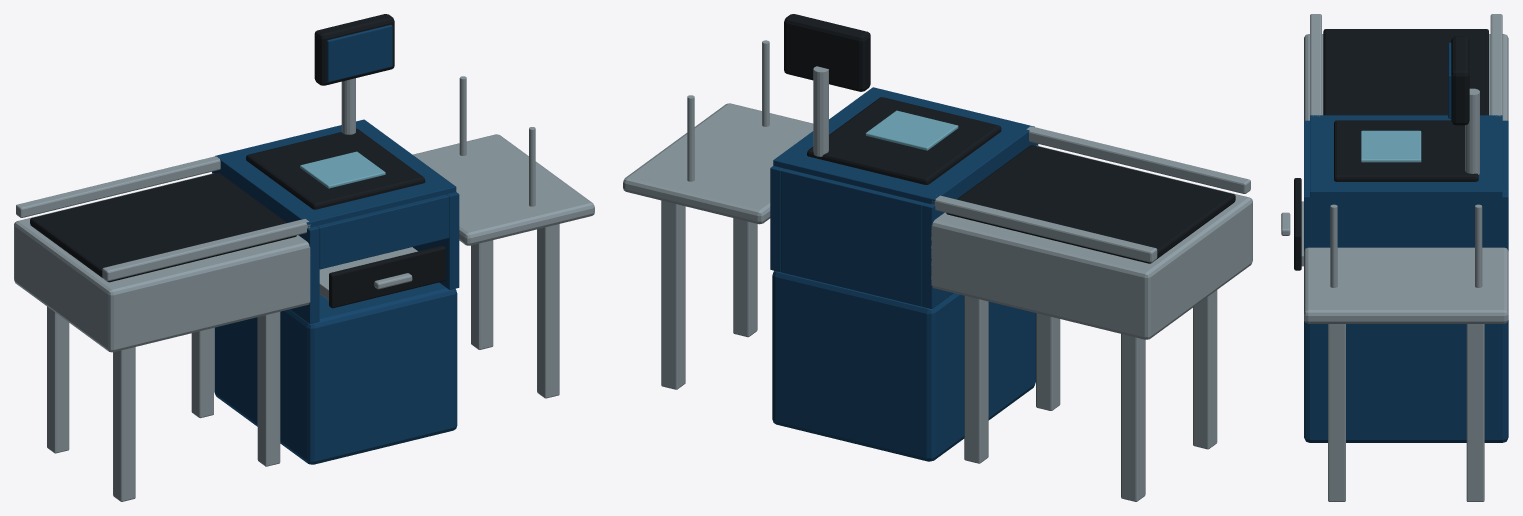
The picture shows the model from 3 angles, left to right: view 1: azimuth 30°, elevation 25°; view 2: azimuth 150°, elevation 25°; view 3: azimuth 270°, elevation 25°; orthographic projection. The views are drawn at different scales.
Parts seen in each view (by area): view 1: BODY_Lower, CONVEYOR_Base, CONVEYOR_Belt, BAGGING_Surface, BODY_Top, SCANNER_Plate, BODY_Fascia, DRAWER_Front, LEG.004, LEG.002, LEG, LEG.001 (+12 smaller); view 2: BODY_Lower, CONVEYOR_Base, CONVEYOR_Belt, BODY_Back, BAGGING_Surface, BODY_Top, SCANNER_Plate, POS_Housing, LEG.005, LEG.003, LEG.001, LEG (+10 smaller); view 3: BODY_Lower, BAGGING_Surface, CONVEYOR_Belt, BODY_Side, BODY_Top, SCANNER_Plate, LEG.005, LEG.004, SCANNER_Window, POS_Housing, CONVEYOR_Base, CONVEYOR_Rail (+8 smaller).
Part boxes in pixels (x1,y1,x2,y2): BODY_Lower: (214, 282, 457, 464); CONVEYOR_Base: (14, 173, 310, 352); CONVEYOR_Belt: (30, 173, 296, 282); BAGGING_Surface: (413, 134, 594, 245); BODY_Top: (215, 119, 456, 227); SCANNER_Plate: (246, 128, 425, 209); BODY_Fascia: (317, 194, 449, 269); DRAWER_Front: (329, 245, 445, 308); LEG.004: (537, 224, 559, 398); LEG.002: (257, 312, 280, 466); LEG: (113, 347, 135, 501); LEG.001: (47, 306, 69, 453); BODY_Lower: (772, 270, 1035, 461); CONVEYOR_Base: (931, 145, 1252, 339); CONVEYOR_Belt: (946, 145, 1235, 263); BODY_Back: (781, 168, 923, 306); BAGGING_Surface: (623, 103, 813, 224); BODY_Top: (773, 87, 1034, 204); SCANNER_Plate: (807, 97, 1001, 184); POS_Housing: (784, 14, 870, 91); LEG.005: (661, 200, 685, 389); LEG.003: (964, 295, 988, 463); LEG.001: (1121, 334, 1145, 501); LEG: (1193, 290, 1217, 449); BODY_Lower: (1304, 320, 1508, 442); BAGGING_Surface: (1304, 247, 1508, 323); CONVEYOR_Belt: (1323, 29, 1488, 115); BODY_Side: (1304, 192, 1508, 250); BODY_Top: (1310, 115, 1502, 201); SCANNER_Plate: (1334, 120, 1478, 181); LEG.005: (1466, 324, 1484, 501); LEG.004: (1328, 324, 1345, 501); SCANNER_Window: (1361, 130, 1421, 162); POS_Housing: (1451, 36, 1469, 125); CONVEYOR_Base: (1304, 34, 1508, 120); CONVEYOR_Rail: (1490, 14, 1502, 116).
Bounding box in the file's own units: 1.95 × 1.38 × 0.755.
